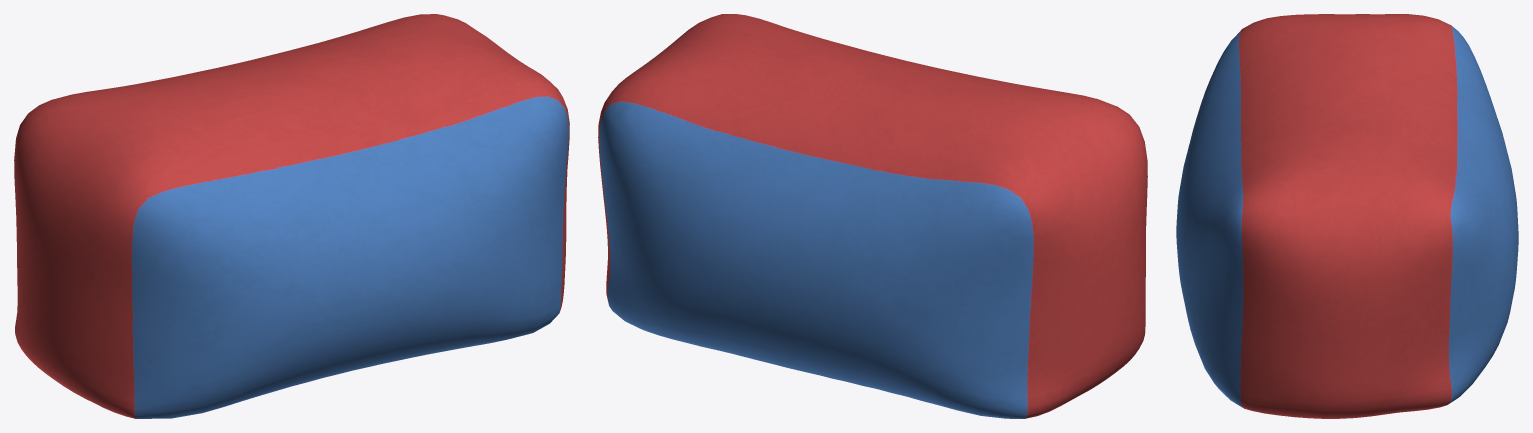
File: Brick_L.fbx
The picture shows the model from 3 angles, left to right: view 1: azimuth 30°, elevation 25°; view 2: azimuth 150°, elevation 25°; view 3: azimuth 270°, elevation 25°; orthographic projection. The views are drawn at different scales.
Parts seen in each view (by area): view 1: Brick_L; view 2: Brick_L; view 3: Brick_L.
Part boxes in pixels (left/top/right/bottom): Brick_L: left=14, top=14, right=569, bottom=418; Brick_L: left=598, top=14, right=1147, bottom=418; Brick_L: left=1176, top=14, right=1518, bottom=418.
Size of the model in its own units: 247 by 120 by 161.
